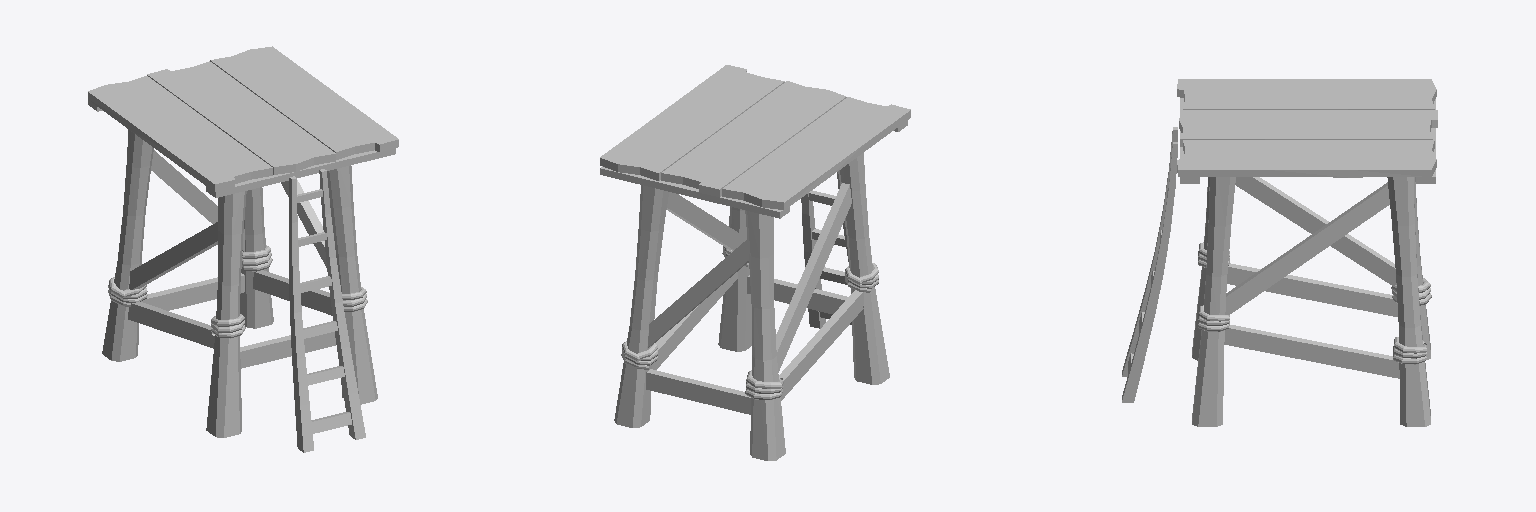
Rendered from ArcherTower.obj.
3 views of the same model, side by side, from view 1: azimuth 30°, elevation 25°; view 2: azimuth 150°, elevation 25°; view 3: azimuth 270°, elevation 25° (orthographic).
Parts seen in each view (by area): view 1: E59F3W_low, KIJW5L_low, WH5R0L_low, YN5O4V_low, QKHP8P_low, YVVMSL_low, FRM26J_low, C0CD3F_low; view 2: E59F3W_low, KIJW5L_low, WH5R0L_low, YVVMSL_low, QKHP8P_low, FRM26J_low, YN5O4V_low, C0CD3F_low; view 3: KIJW5L_low, E59F3W_low, YVVMSL_low, WH5R0L_low, QKHP8P_low, YN5O4V_low, FRM26J_low.
Part boxes in pixels (x1,y1,x2,y2): E59F3W_low: (102,129,377,437); KIJW5L_low: (128,150,335,368); WH5R0L_low: (88,76,272,191); YN5O4V_low: (289,169,365,452); QKHP8P_low: (147,61,335,174); YVVMSL_low: (210,46,398,159); FRM26J_low: (108,245,367,338); C0CD3F_low: (88,100,395,197); E59F3W_low: (614,153,889,460); KIJW5L_low: (646,183,863,414); WH5R0L_low: (722,97,910,209); YVVMSL_low: (600,65,784,180); QKHP8P_low: (661,81,846,196); FRM26J_low: (621,246,878,399); YN5O4V_low: (801,172,851,328); C0CD3F_low: (600,120,907,218); KIJW5L_low: (1224,177,1399,378); E59F3W_low: (1192,177,1430,426); YVVMSL_low: (1177,140,1436,177); WH5R0L_low: (1177,79,1436,109); QKHP8P_low: (1179,110,1437,146); YN5O4V_low: (1122,127,1177,402); FRM26J_low: (1198,242,1431,364).
Bounding box in the file's own units: 2.7 × 3.67 × 4.